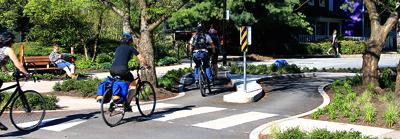With Helmet: (117, 31, 135, 46)
